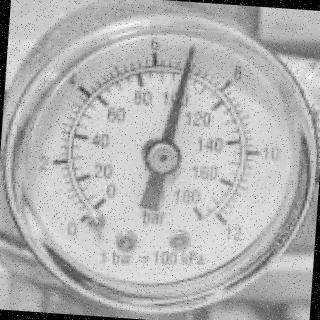gauge: (0, 6, 320, 319), (142, 136, 182, 176), (83, 199, 116, 237), (208, 206, 242, 238), (183, 40, 199, 60)
